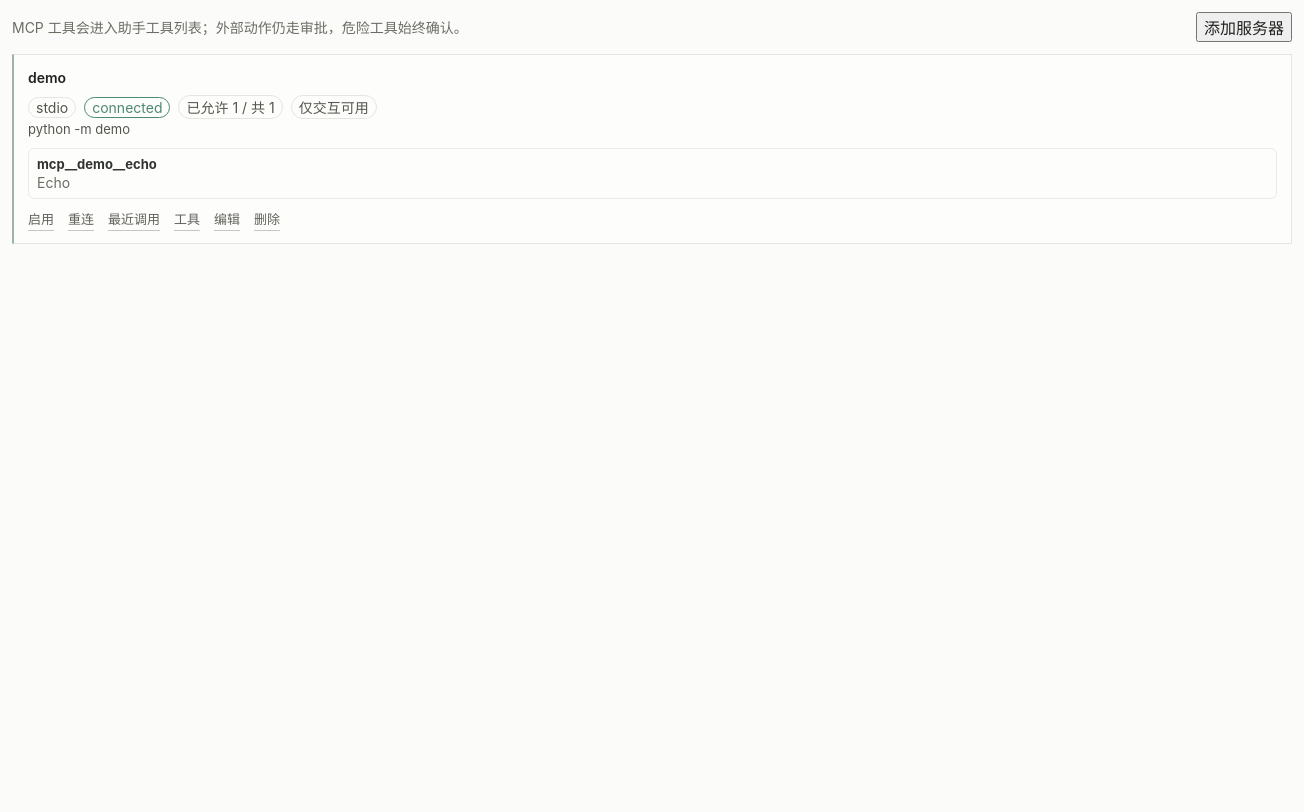
F1 编辑已有服务器：打开与预填 › 预填能读到的字段；env/headers 是空的，并且'不修改 / 整体替换'用户看得见
Click the button "编辑" at (227,219), box [214, 207, 240, 231]
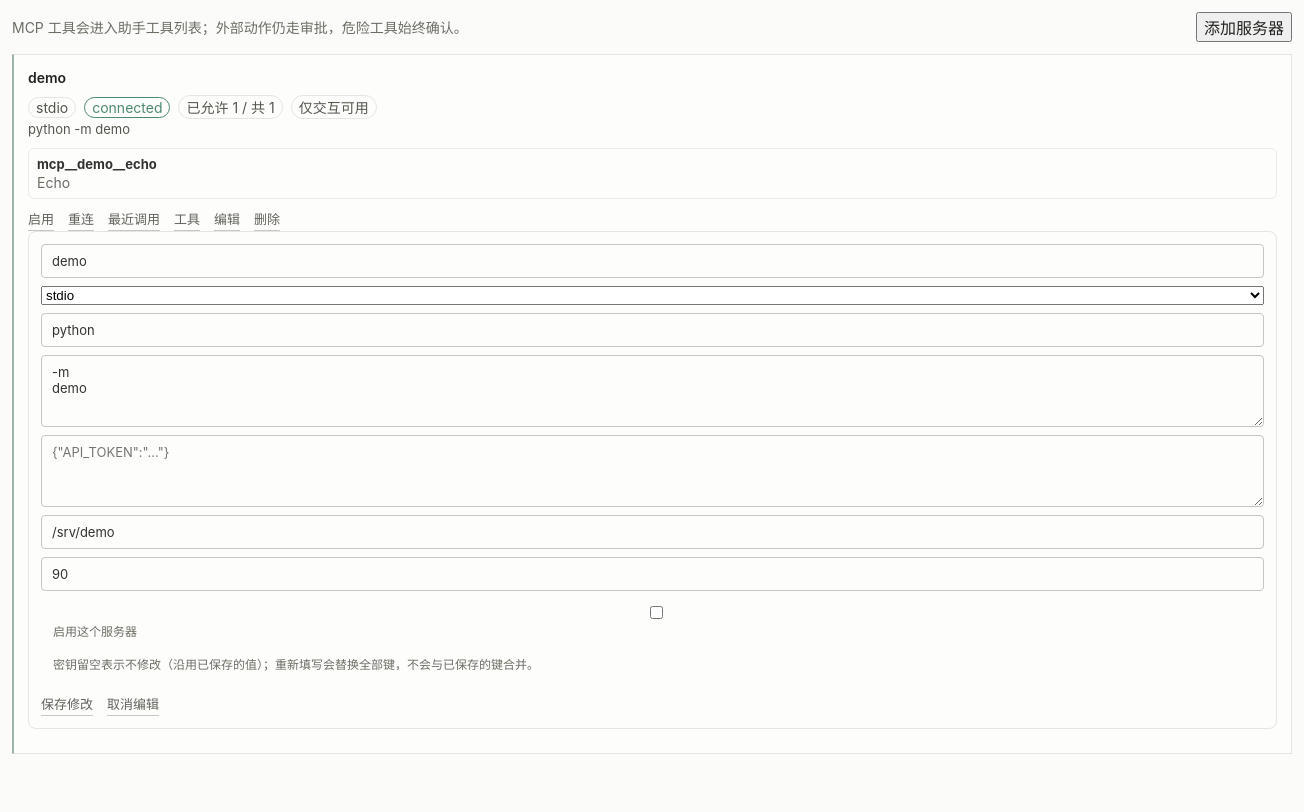
Now the field named "编辑服务器名称" holds "demo", box [41, 244, 1264, 278]
Now the text "重新填写会替换全部键" is shown, box [53, 657, 539, 672]
Now the text "不会与已保存的键合并" is shown, box [53, 657, 539, 672]
